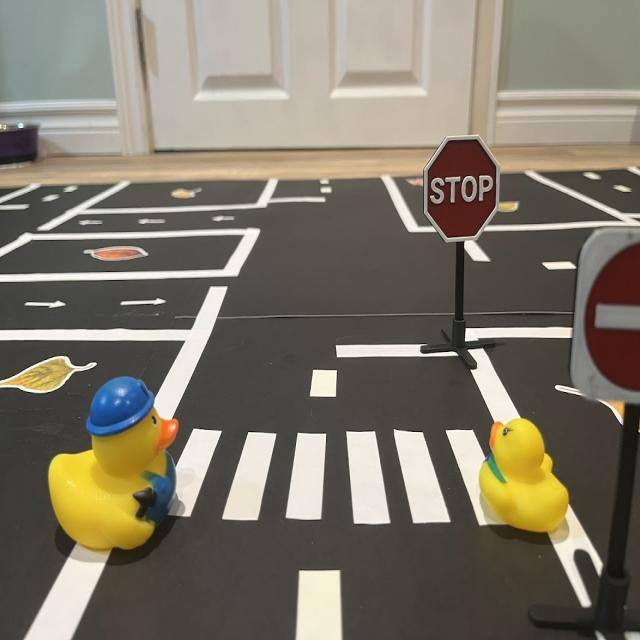duck_regular: (478, 418, 571, 540)
duck_specialty: (48, 378, 181, 556)
road_crosswalk: (162, 424, 518, 524)
road_oneway: (116, 293, 172, 313), (19, 295, 71, 315), (73, 218, 108, 230), (136, 217, 170, 229), (209, 212, 239, 225)
sign_noentry: (567, 226, 640, 405)
sign_stop: (424, 136, 501, 245)
